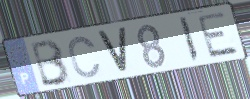8: (136, 22, 168, 70)
B: (29, 37, 72, 88)
C: (67, 34, 103, 80)
E: (195, 9, 242, 60)
I: (177, 15, 202, 65)
V: (95, 27, 130, 75)
